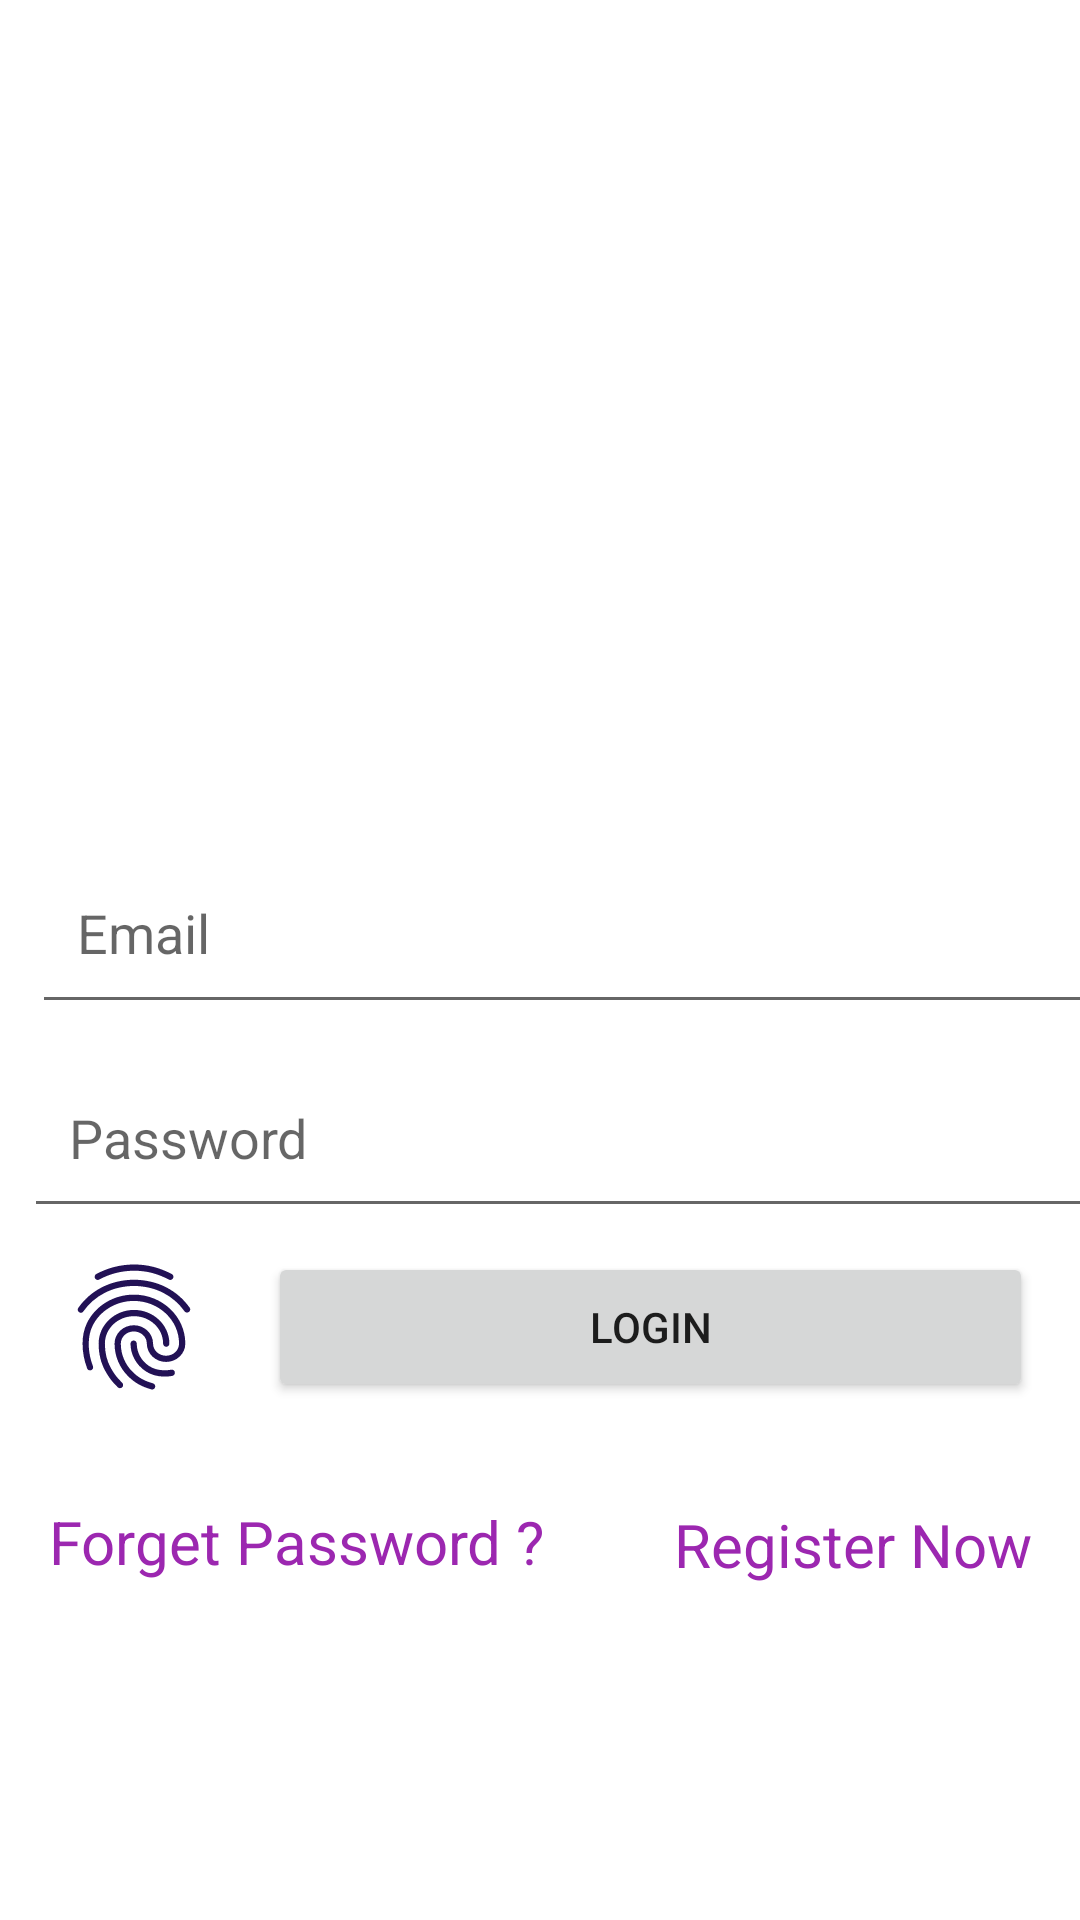

Where to tap for icons on this 1080px x 1920px app screen, as (x=x, y=y):
fingerprint: (x=134, y=1327)
